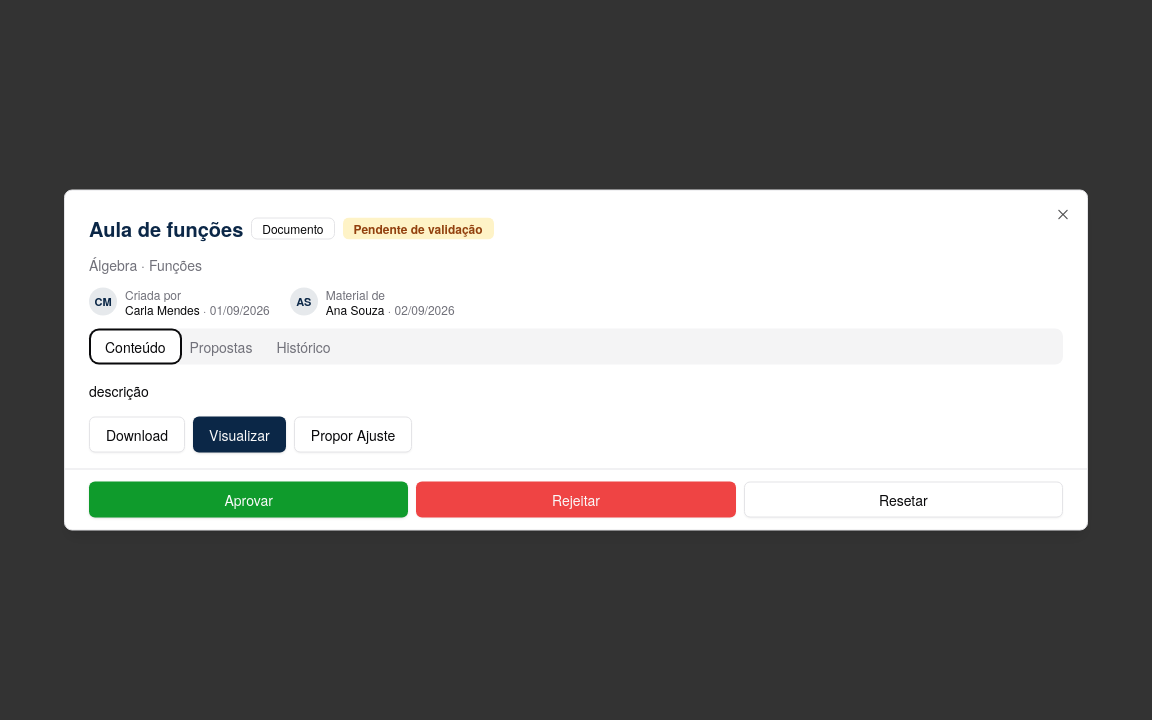
it: DemandaModal — aba Histórico (050/04) › só busca a timeline quando a aba abre, e mostra os eventos
Note: ⚠️ mouseDown, não click: é assim que o Radix Tabs ativa no jsdom.
Press the mouse on the tab "Histórico" at [304, 346], box [264,332,343,360]
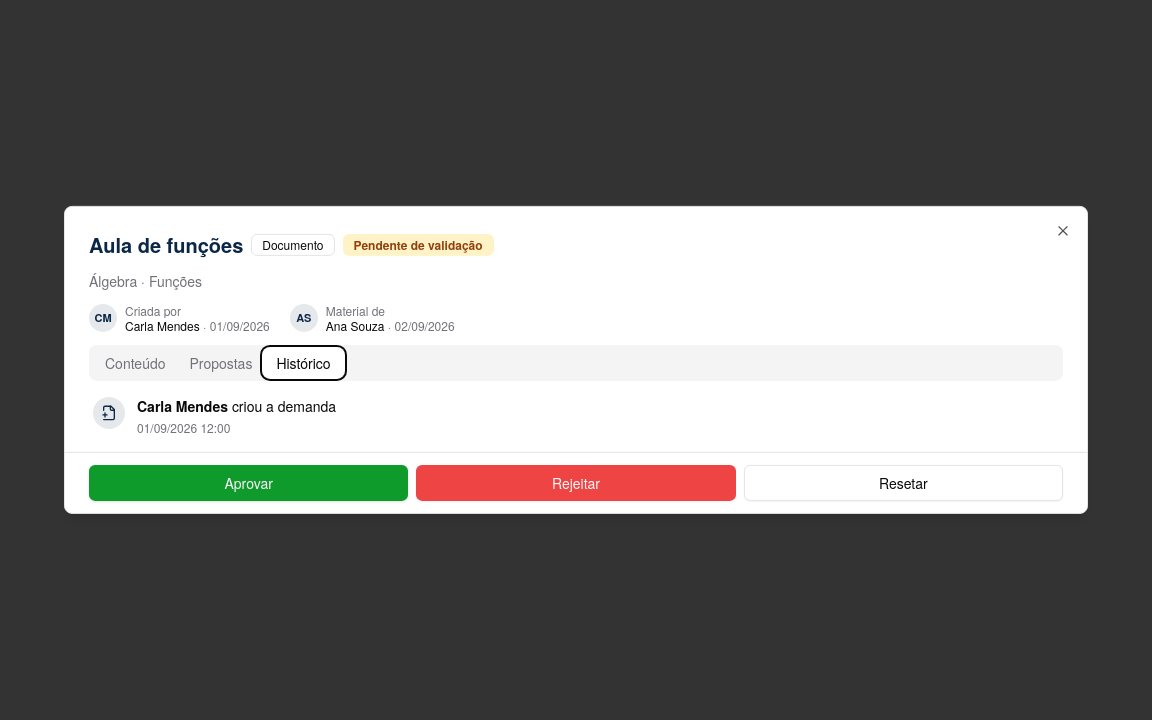
Check: the text "Carla Mendes criou a demanda" is shown, box [137,396,336,416]
